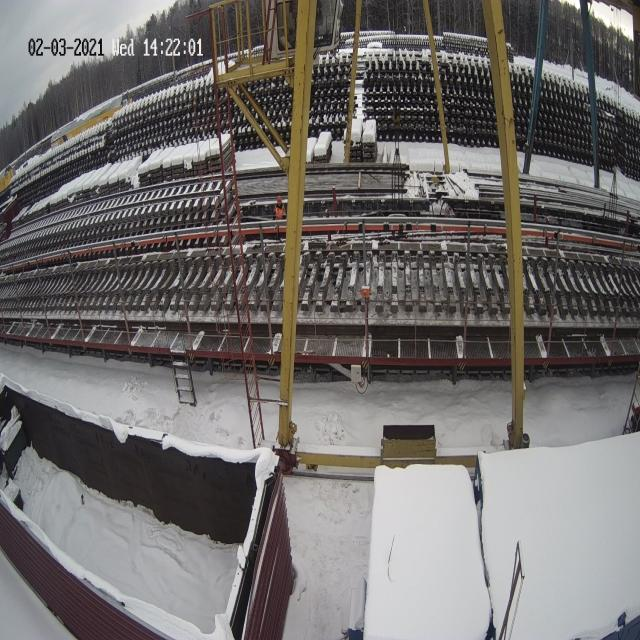Helmet: (277, 196, 281, 204)
Person: (274, 195, 286, 242)
